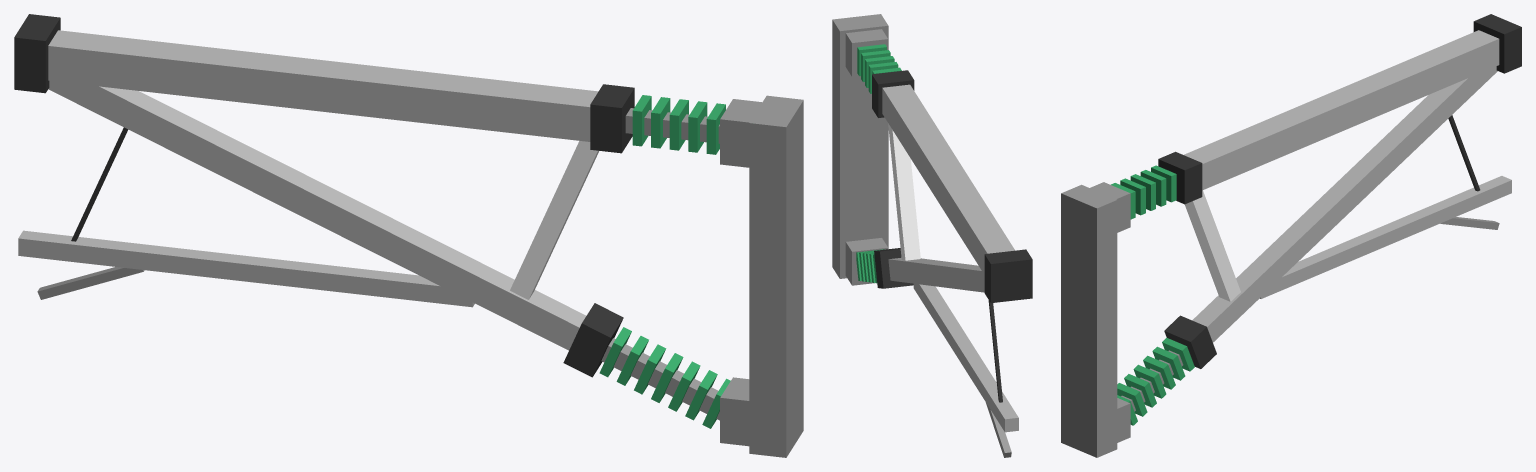
File: catenary_grid_a2_45.obj
3 views of the same model, side by side, from view 1: azimuth 30°, elevation 25°; view 2: azimuth 150°, elevation 25°; view 3: azimuth 270°, elevation 25° (orthographic). The views are drawn at different scales.
Visible parts, largest first — view 1: catenary_grid_a1_45; view 2: catenary_grid_a1_45; view 3: catenary_grid_a1_45.
Boxes of the visible parts, x1,y1,x2,y2 form: catenary_grid_a1_45: (14,14,803,457); catenary_grid_a1_45: (832,14,1032,457); catenary_grid_a1_45: (1061,14,1521,457).
Bounding box in the file's own units: 1.99 × 1.19 × 1.99.
